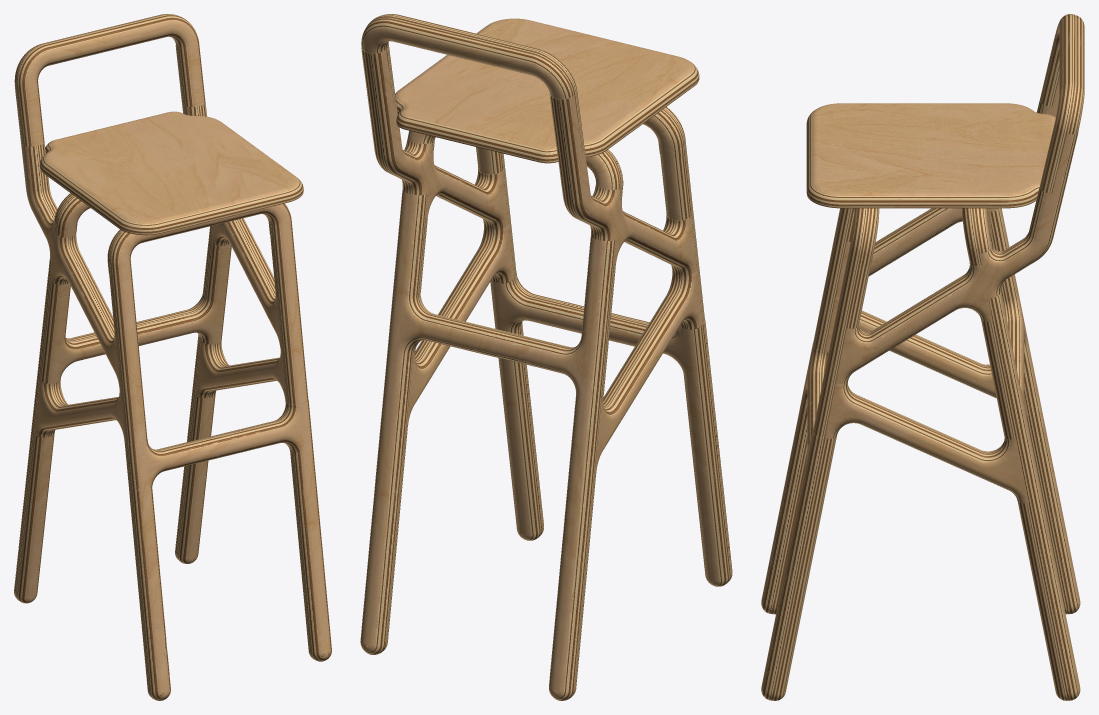
The model's file is stool-with-back.glb.
The picture shows the model from 3 angles, left to right: view 1: azimuth 30°, elevation 25°; view 2: azimuth 150°, elevation 25°; view 3: azimuth 270°, elevation 25°; orthographic projection. The views are drawn at different scales.
Parts seen in each view (by area): view 1: Stool with Back.001; view 2: Stool with Back.001; view 3: Stool with Back.001.
Part boxes in pixels (bbox=[...]): Stool with Back.001: bbox=[14, 14, 331, 700]; Stool with Back.001: bbox=[360, 14, 732, 700]; Stool with Back.001: bbox=[761, 14, 1084, 700].
Bounding box in the file's own units: 0.3443 × 1 × 0.484.
2 materials, 2 textured.
